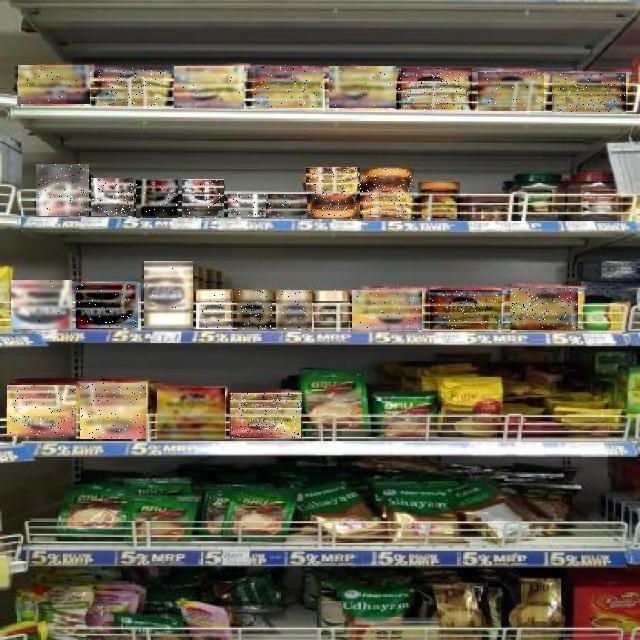Coffee: (7, 386, 76, 440), (80, 383, 146, 439), (157, 388, 225, 440), (144, 262, 193, 330), (230, 393, 302, 438), (396, 68, 472, 110), (12, 280, 74, 329), (174, 66, 244, 108), (552, 73, 626, 112), (430, 290, 502, 330), (255, 66, 323, 108), (511, 288, 579, 330), (329, 67, 396, 109), (18, 65, 90, 104), (306, 167, 360, 219), (353, 290, 423, 330), (76, 283, 138, 328), (36, 164, 89, 216), (360, 168, 414, 218), (478, 72, 544, 111), (99, 68, 165, 106), (182, 179, 224, 218), (137, 179, 179, 218), (91, 178, 134, 216), (418, 182, 460, 218), (315, 290, 351, 332), (196, 289, 232, 329), (276, 290, 312, 330), (237, 290, 272, 330), (268, 194, 307, 218), (228, 194, 266, 217)
